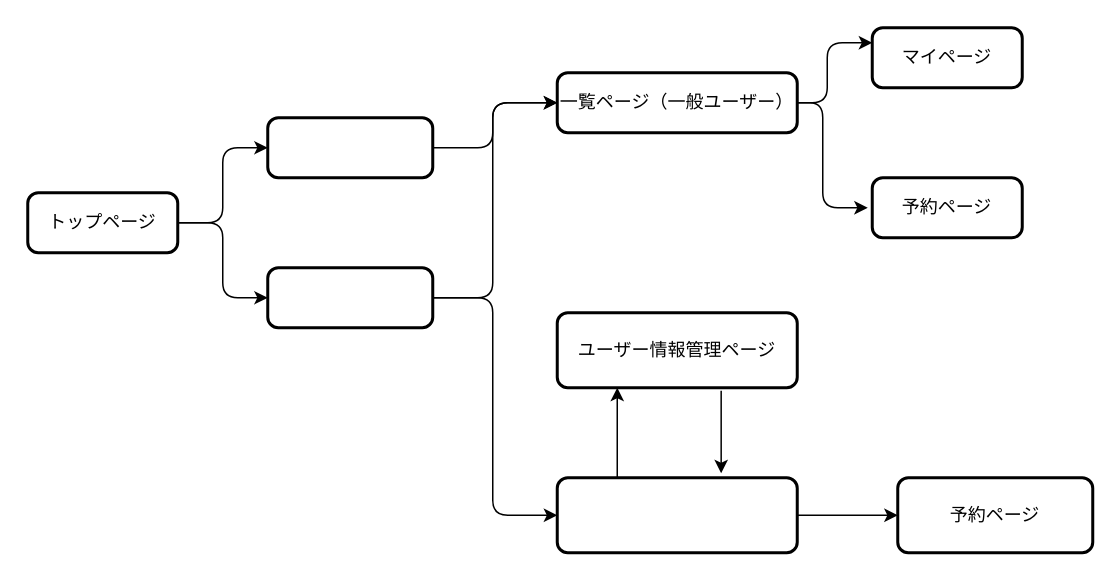
Some shapes in this 1119 by 579 pixel diagram are drawn without their labels. Here are the shapes that lost their labels. From the top down, the centre of each, then its label:
the point at 350,147: 新規登録ページ
the point at 350,297: ログインページ
the point at 676,515: 一覧ページ（管理者）
